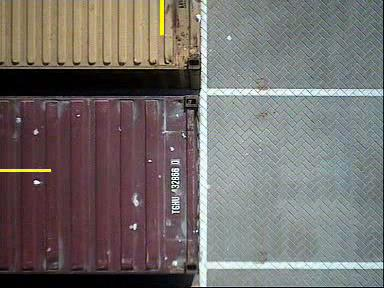groundmarker_2: (198, 64, 228, 116), (199, 242, 229, 288)
